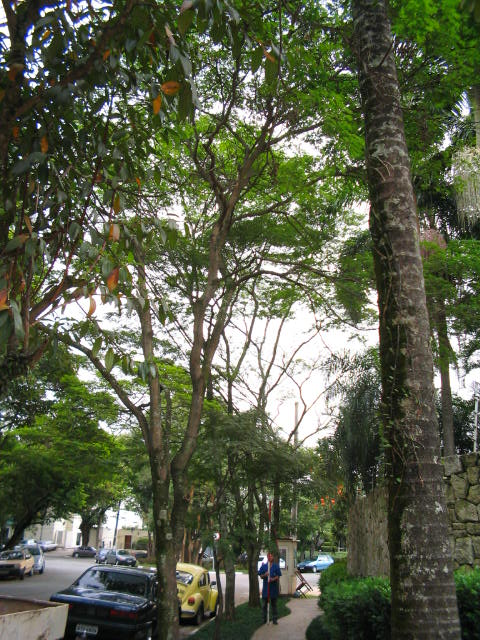stick: (254, 498, 280, 624)
